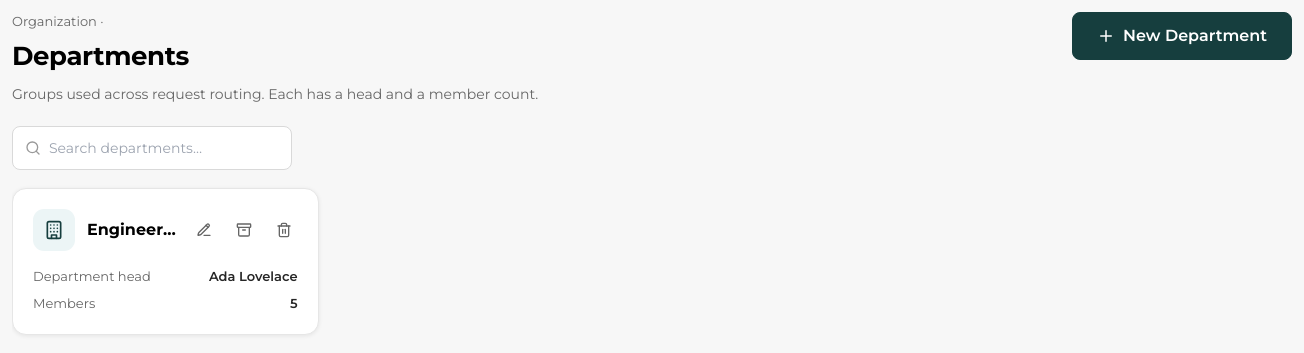
Test: archiving posts /archive and reloads
Expected: the text "Engineering" is shown, [87,218,178,242]
Step 1. Click the button named "Archive Engineering" → (244, 230), box [230,216,258,244]
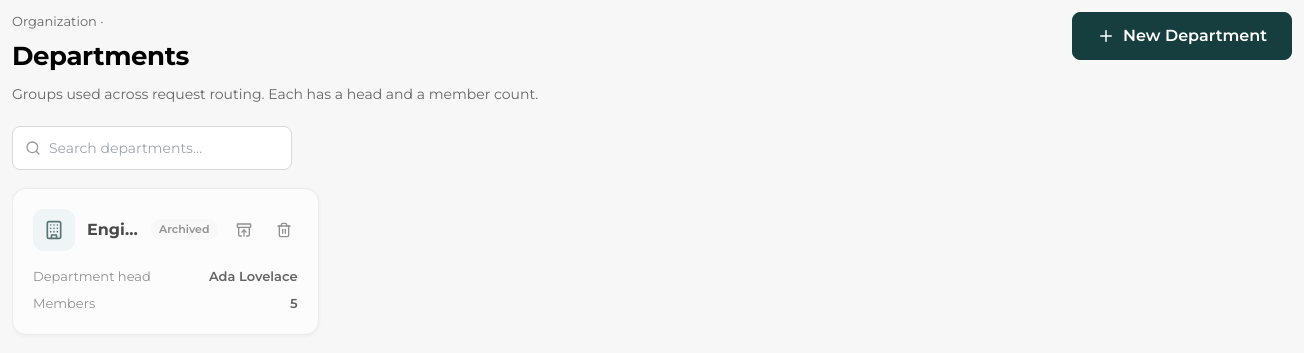
Now the text "Archived" is shown, box [151,219,218,240]
